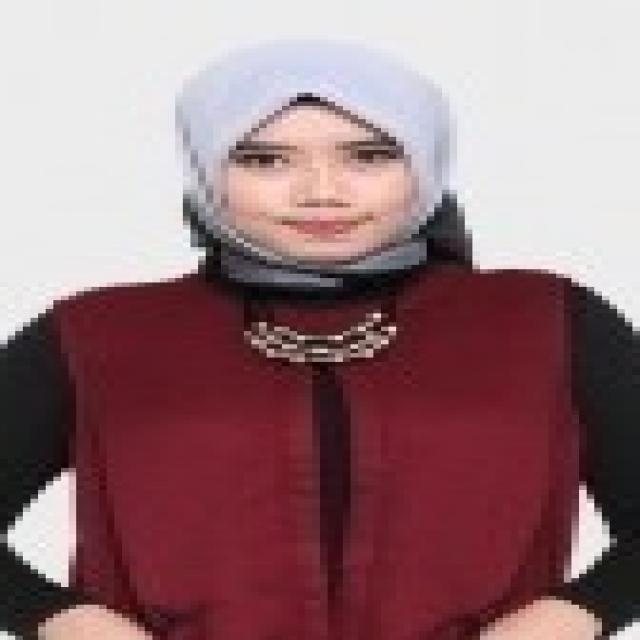head: (166, 32, 480, 284)
